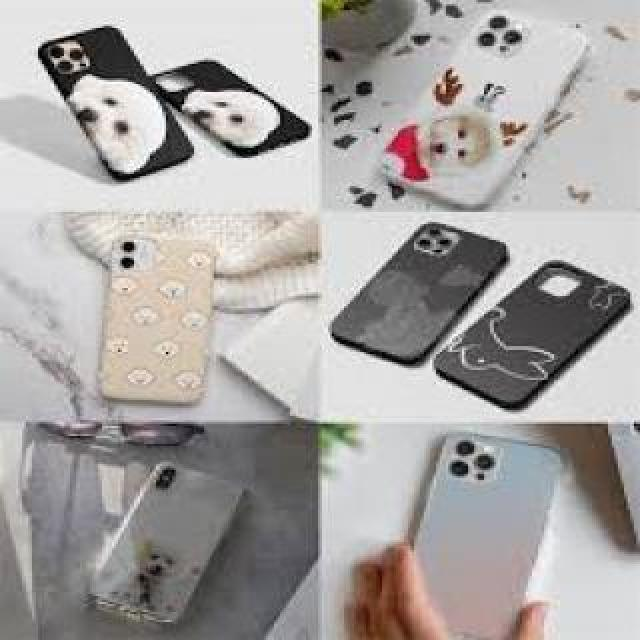smart phone: (365, 0, 623, 195), (330, 183, 498, 367), (408, 430, 548, 640), (42, 20, 188, 175), (94, 223, 204, 405)
